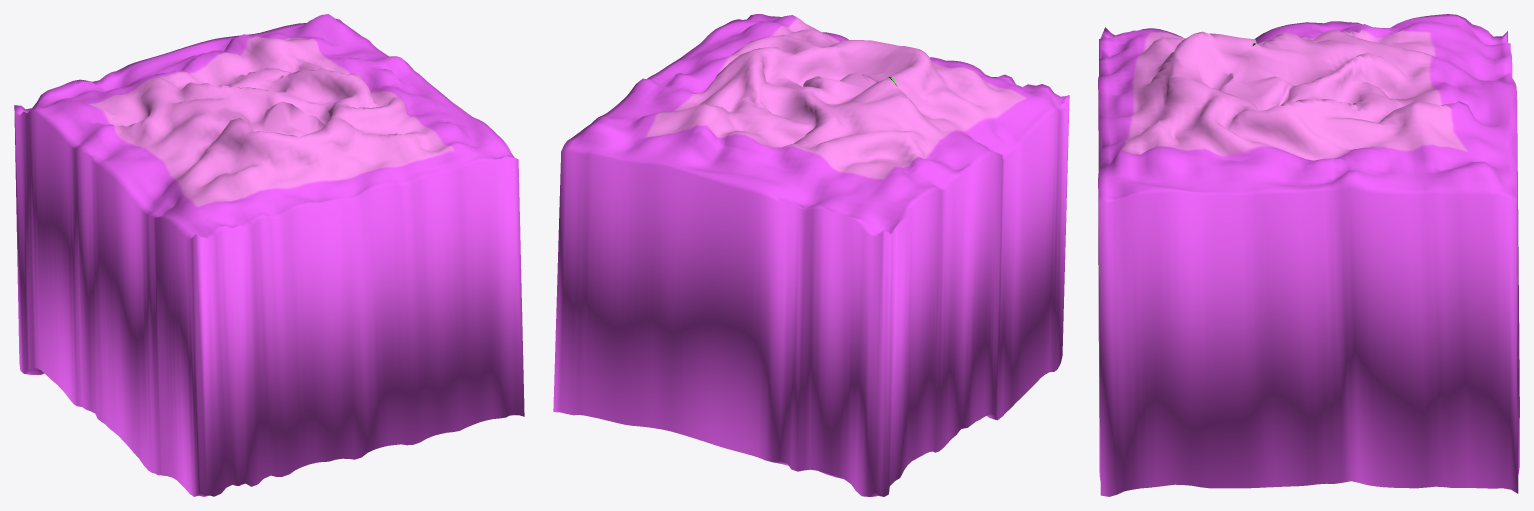
Rendered from SweetIsland_groud1.glb.
3 renders of one model, left to right at view 1: azimuth 30°, elevation 25°; view 2: azimuth 150°, elevation 25°; view 3: azimuth 270°, elevation 25°, orthographic. The views are drawn at different scales.
Visible parts, largest first — view 1: グリッド; view 2: グリッド; view 3: グリッド.
Part boxes in pixels (box(x1,y1,x2,y2)): グリッド: box(14, 14, 524, 496); グリッド: box(553, 14, 1069, 496); グリッド: box(1098, 14, 1519, 496).
Size of the model in its own units: 40.75 by 38.44 by 40.11.
1 material, 1 textured.
